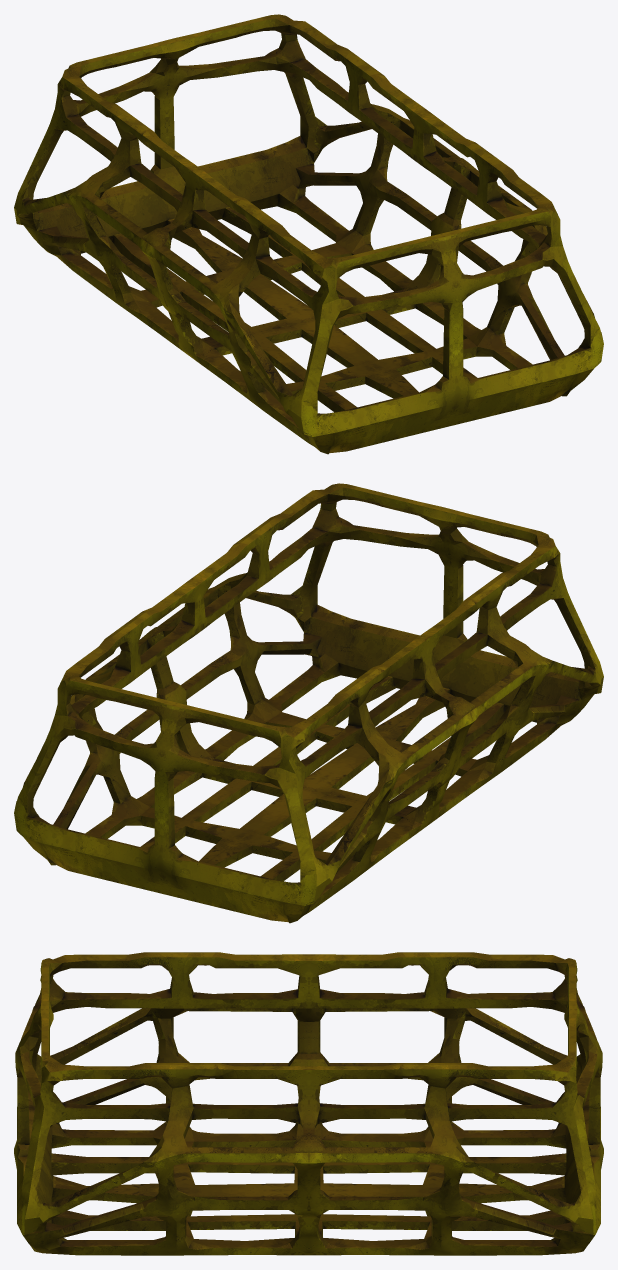
Rendered from basket.fbx.
The picture shows the model from 3 angles, top to bottom: view 1: azimuth 30°, elevation 25°; view 2: azimuth 150°, elevation 25°; view 3: azimuth 270°, elevation 25°; orthographic projection.
Visible parts, largest first — view 1: Cube; view 2: Cube; view 3: Cube.
Boxes of the visible parts, x1=… form: Cube: x1=14, y1=14, x2=603, y2=454; Cube: x1=14, y1=483, x2=603, y2=923; Cube: x1=14, y1=952, x2=603, y2=1255.
Bounding box in the file's own units: 143 × 79.97 × 224.
